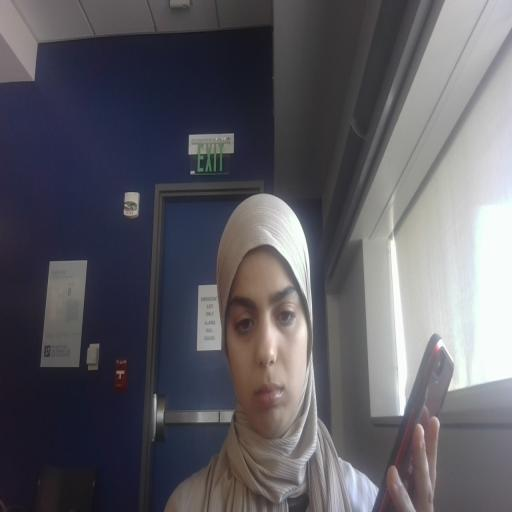phone: (377, 274, 473, 512)
